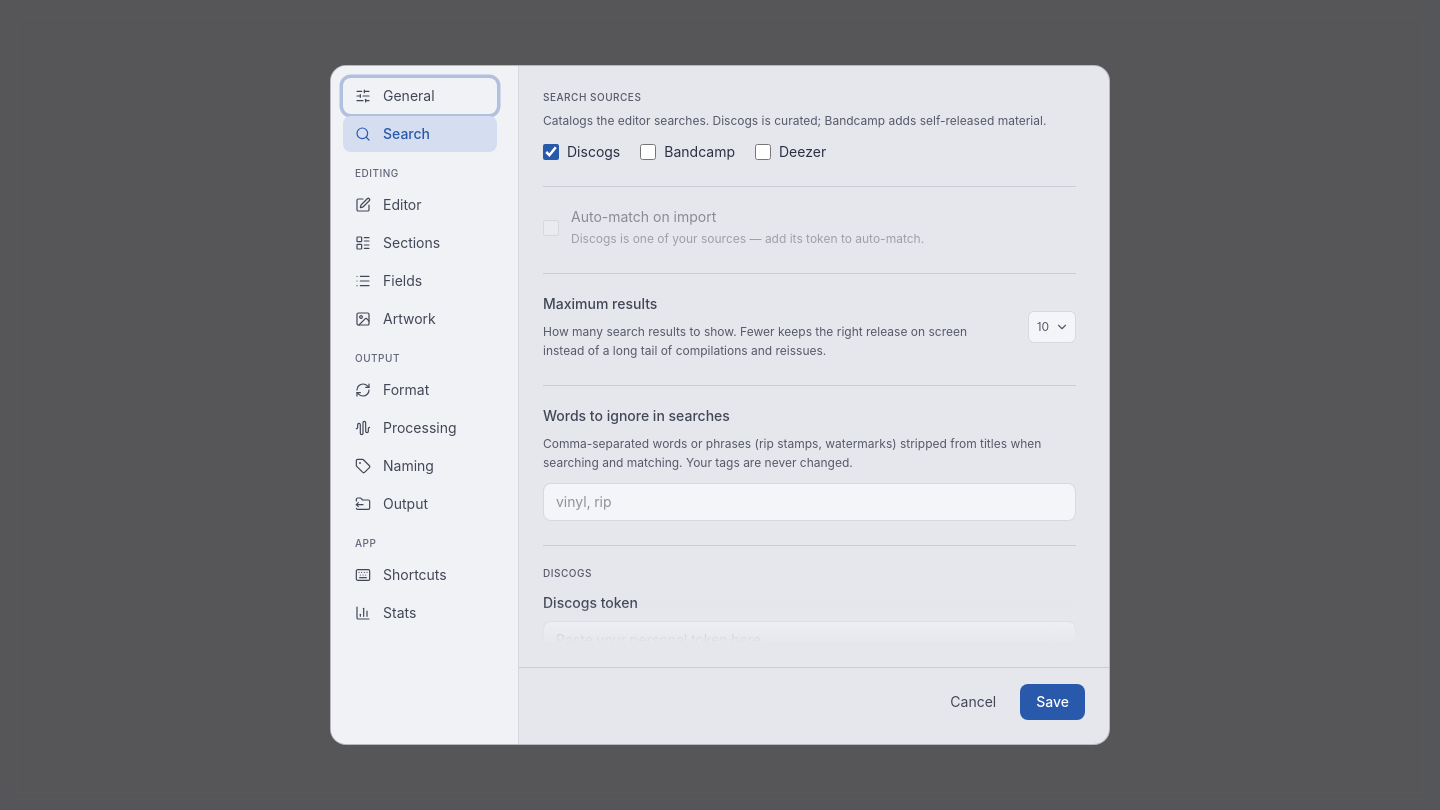
Test: SettingsModal auto-match › disables the auto-match toggle until a Discogs token is entered
Step 1. Type "tok" into the field with test id "settings-token" → (810,640), box [543,621,1076,659]
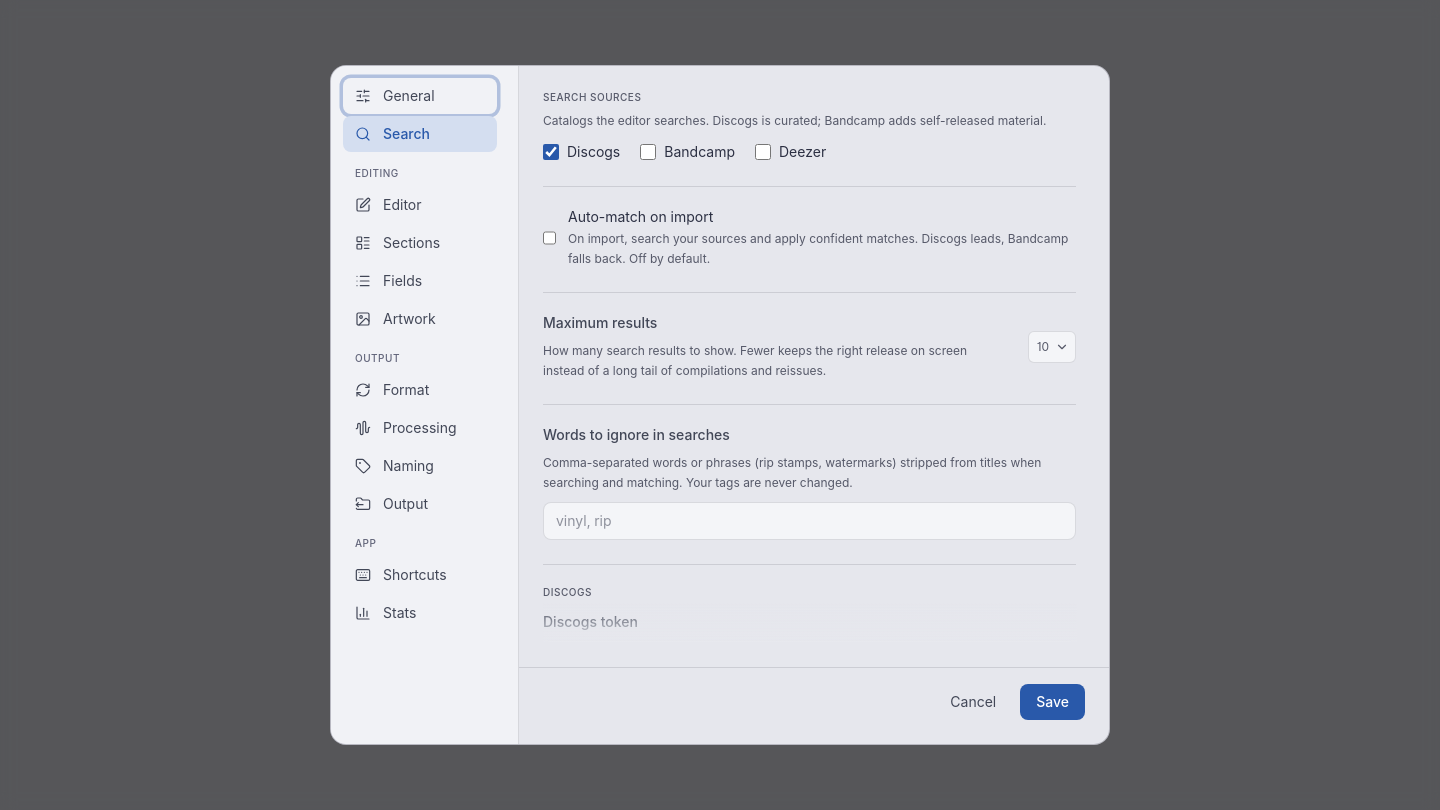
Check: the checkbox with test id "settings-auto-match" is enabled, box [543,230,556,246]
